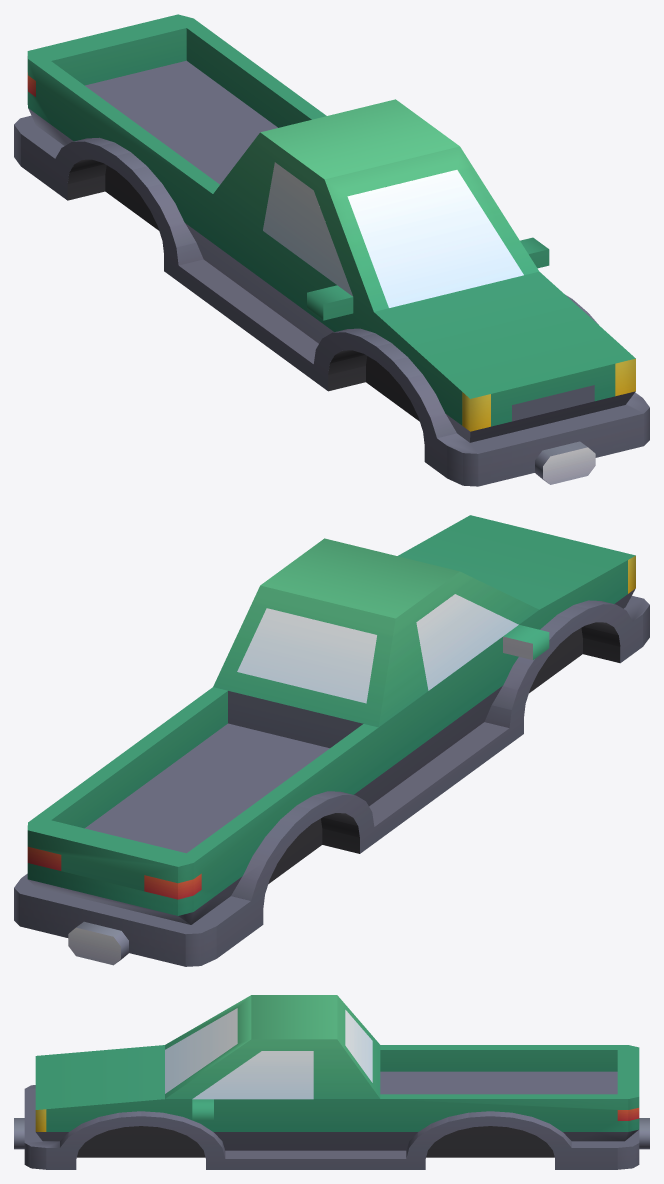
Rendered from f250-crew.glb.
The picture shows the model from 3 angles, top to bottom: view 1: azimuth 30°, elevation 25°; view 2: azimuth 150°, elevation 25°; view 3: azimuth 270°, elevation 25°; orthographic projection. The views are drawn at different scales.
Visible parts, largest first — view 1: body, glass, chassis; view 2: body, glass, chassis; view 3: body, glass, chassis.
Part boxes in pixels (x1,y1,x2,y2): body: (14, 14, 649, 486); glass: (263, 162, 523, 307); chassis: (67, 159, 419, 421); body: (14, 515, 649, 966); glass: (237, 594, 518, 703); chassis: (268, 622, 620, 883); body: (14, 995, 649, 1169); glass: (165, 1008, 372, 1099); chassis: (77, 1126, 554, 1157).
Bounding box in the file's own units: 2.03 × 1.62 × 7.39.
Materials: 1 (1 with a texture image).
